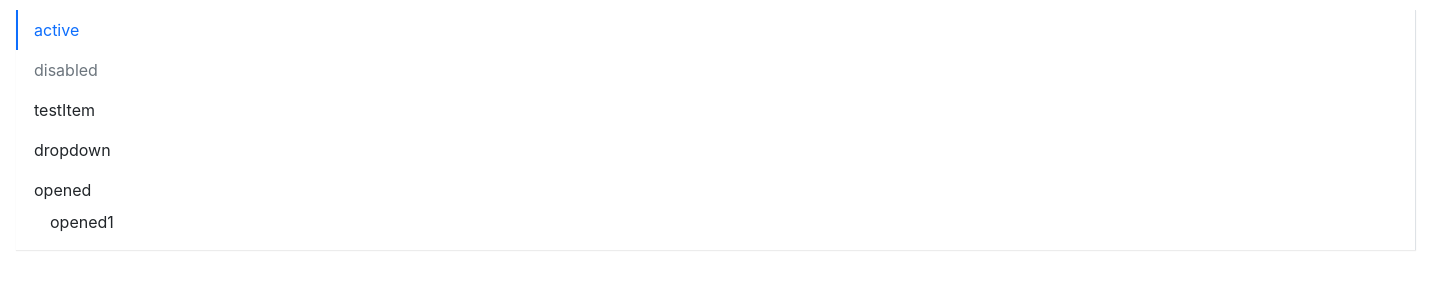
Test: test Menu and MenuItem component in vertical mode › should show dropdown items when click on subMenu for vertical mode
This screenshot has width=1433, height=308.
Expected: the text "dropdown1" is not shown
Click the text "dropdown" at (72, 150), box x1=34 y1=140 x2=111 y2=160
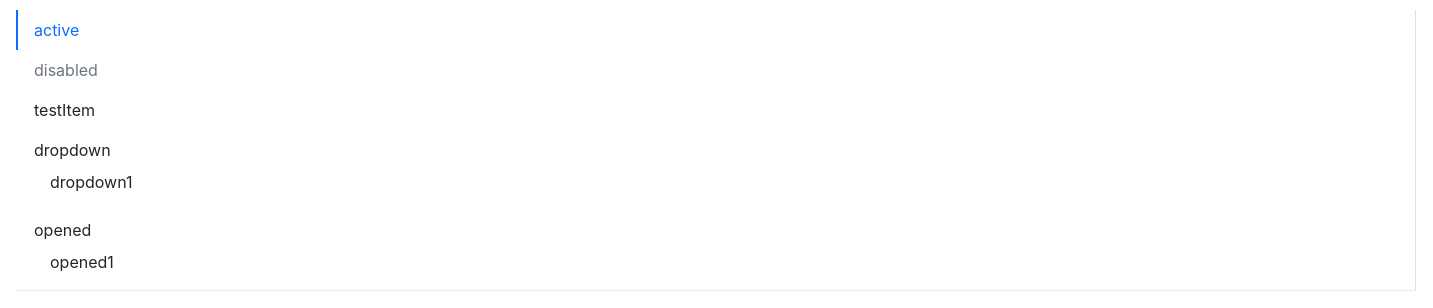
Expected: the list item "dropdown1" is shown, x1=50 y1=172 x2=132 y2=192
